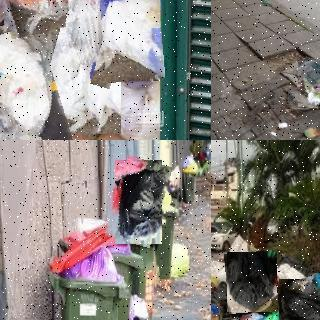Garbage: (35, 0, 132, 137), (0, 21, 66, 140), (98, 0, 162, 82), (110, 158, 167, 246), (226, 251, 278, 313), (0, 0, 63, 36), (275, 276, 320, 320), (295, 58, 320, 110), (211, 251, 226, 284)
